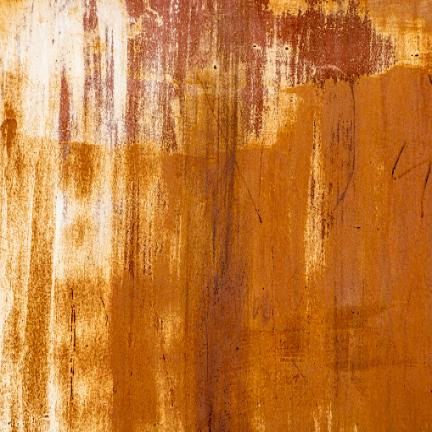karat: (124, 1, 432, 432)
